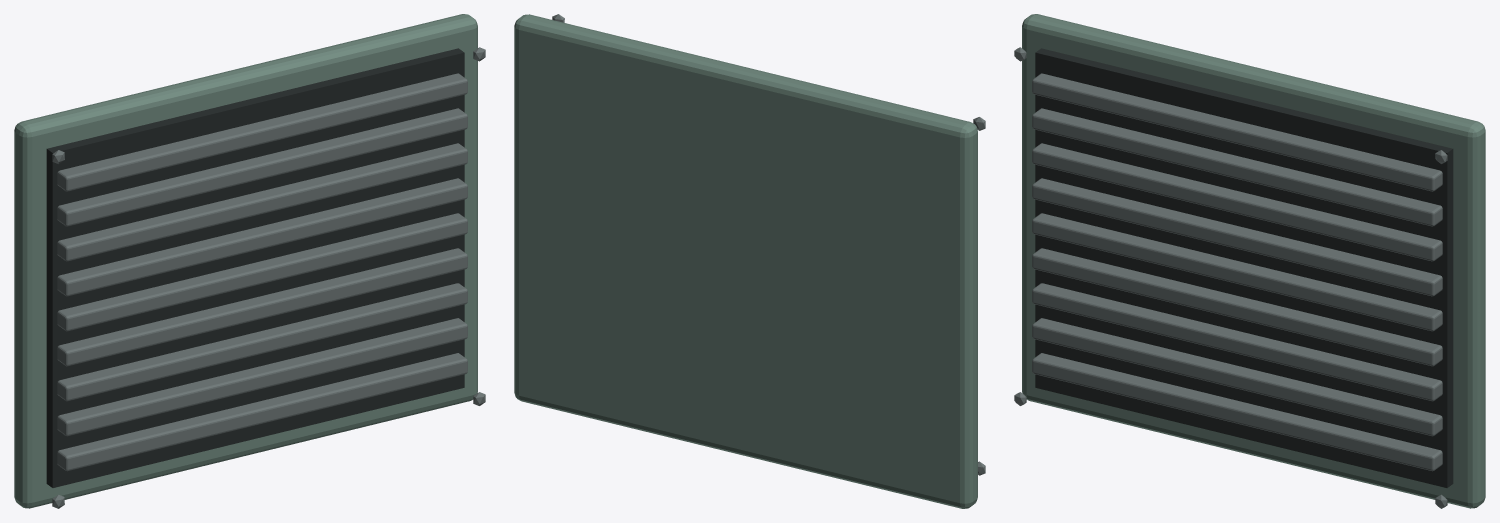
File: vent_grate.glb
3 renders of one model, left to right at view 1: azimuth 30°, elevation 25°; view 2: azimuth 150°, elevation 25°; view 3: azimuth 330°, elevation 25°, orthographic.
Parts seen in each view (by area): view 1: vent_grate; view 2: vent_grate; view 3: vent_grate.
Part boxes in pixels (x1,y1,x2,y2): vent_grate: (14,14,485,508); vent_grate: (514,14,985,508); vent_grate: (1014,14,1485,508).
Bounding box in the file's own units: 1 × 0.8 × 0.1197.
